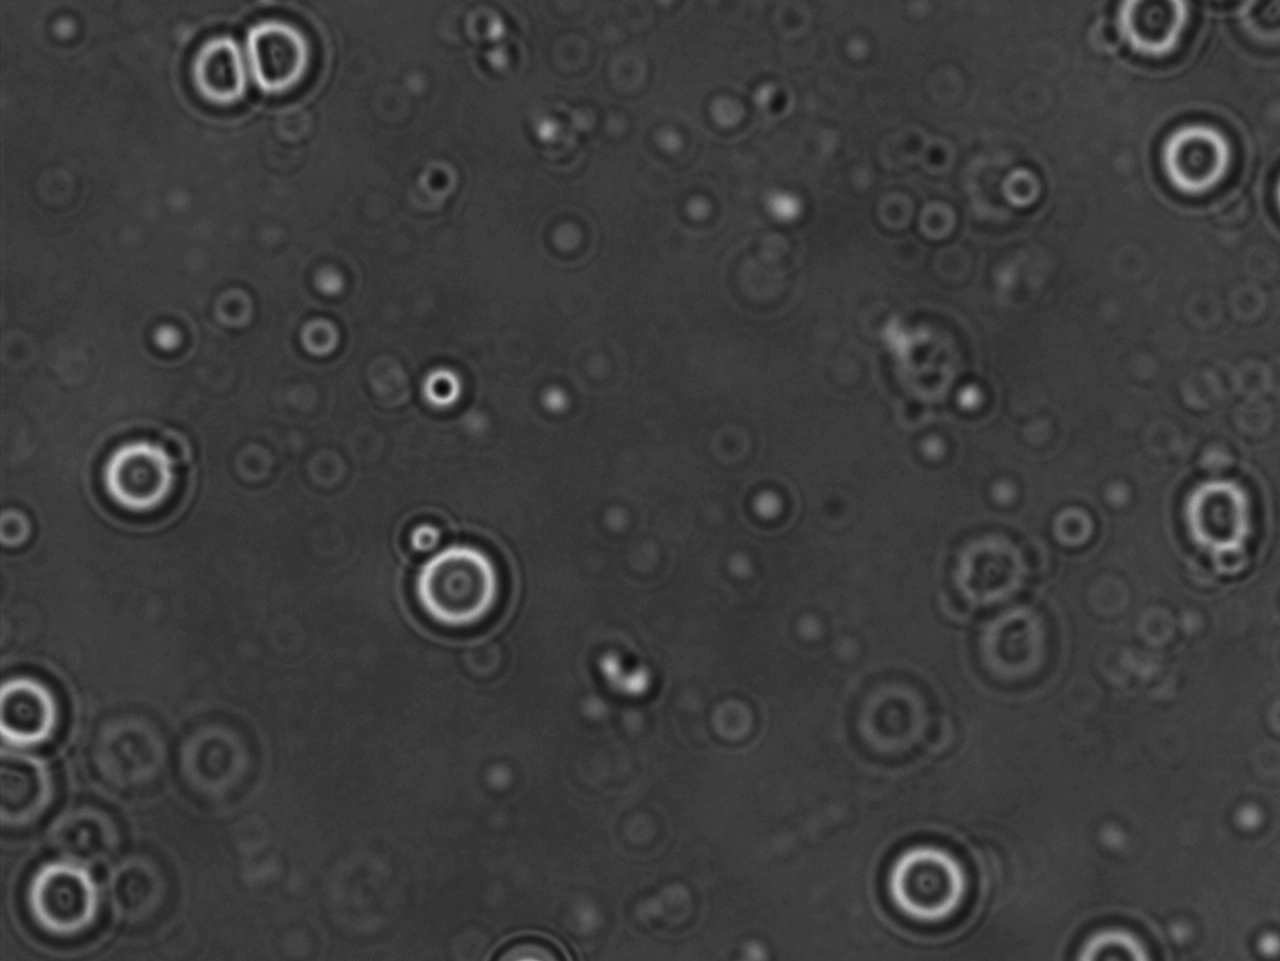depth:8: (395, 518, 526, 651), (1145, 103, 1260, 219), (80, 419, 191, 532), (1, 852, 125, 953), (872, 829, 986, 936), (229, 5, 342, 112), (163, 21, 268, 136)
